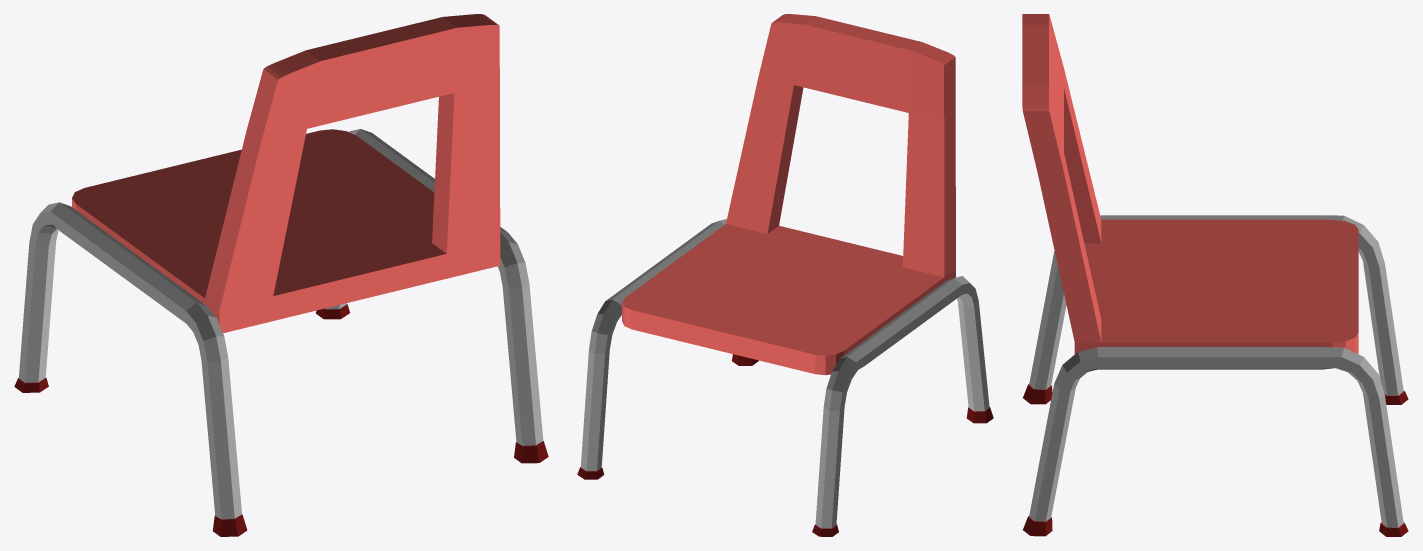
Rendered from Chair 10.fbx.
3 renders of one model, left to right at view 1: azimuth 30°, elevation 25°; view 2: azimuth 150°, elevation 25°; view 3: azimuth 270°, elevation 25°, orthographic. The views are drawn at different scales.
Parts seen in each view (by area): view 1: Node 0; view 2: Node 0; view 3: Node 0.
Part boxes in pixels (x1,y1,x2,y2): Node 0: [14, 14, 548, 536]; Node 0: [577, 14, 993, 536]; Node 0: [1022, 14, 1408, 536].
Bounding box in the file's own units: 0.7303 × 0.8558 × 0.643.
